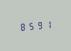eight: (18, 21, 25, 31)
five: (26, 20, 33, 31)
nine: (34, 20, 41, 30)
one: (42, 19, 49, 29)
